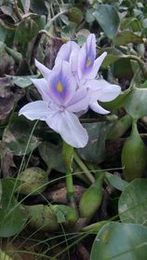water_hyacinth: (0, 0, 147, 259)
